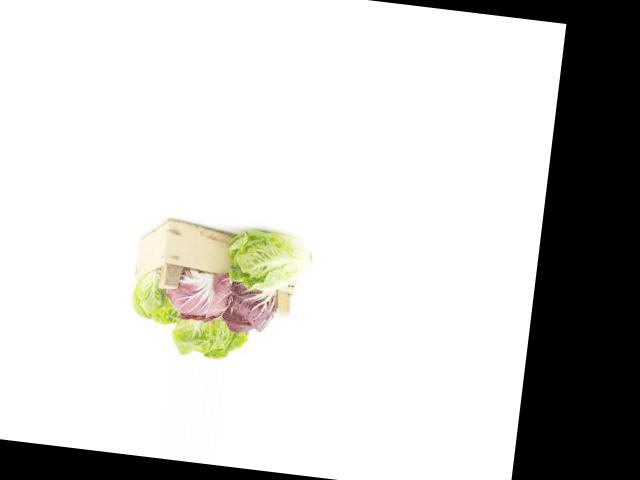lettuce: (117, 201, 298, 321)
